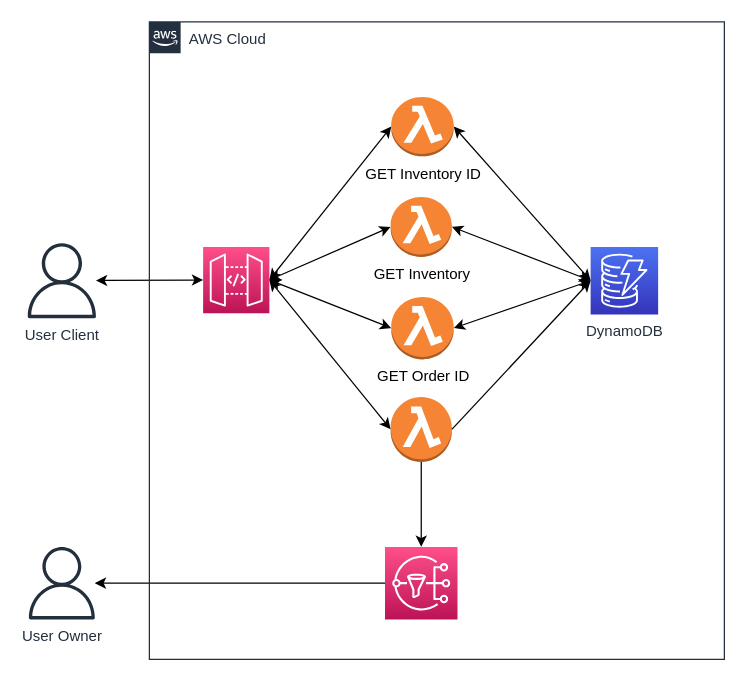
This 746x681 diagram has some shape labels left out. The shapes that lost their labels are listed below. From the top down, each one's box as (x1, y1, x2, y2) in pixels, then its label:
(202, 246, 269, 313): Api Gateway
(389, 396, 452, 462): PUT Order
(384, 546, 458, 619): SNS
